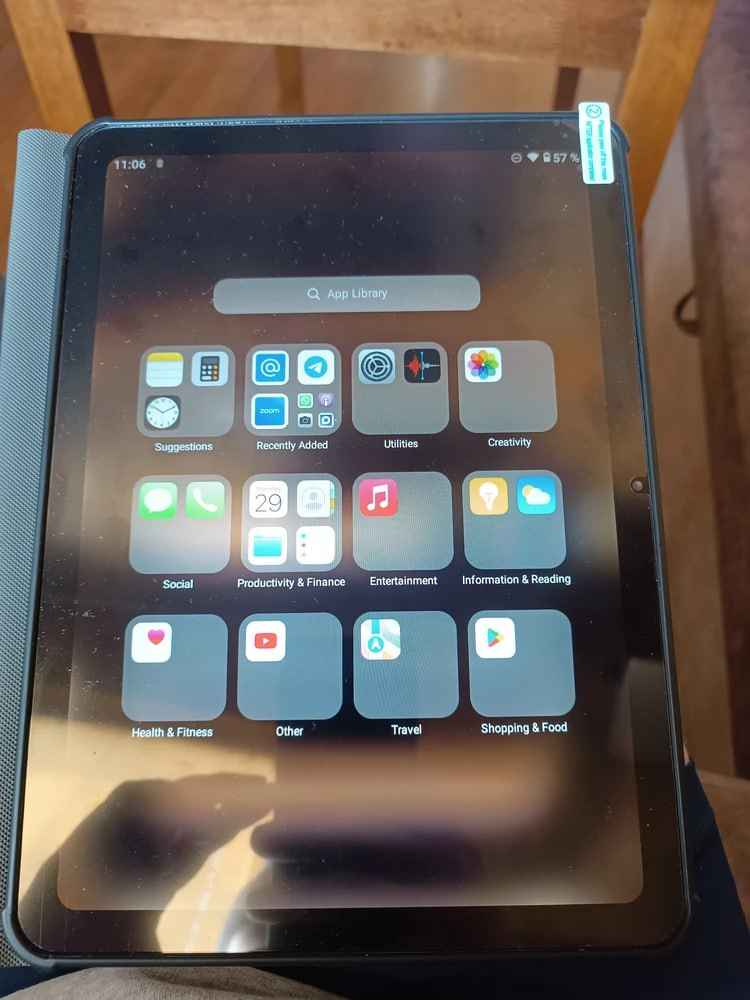tablet: (19, 114, 701, 951)
